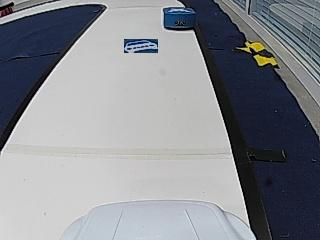prop: (164, 7, 196, 30)
